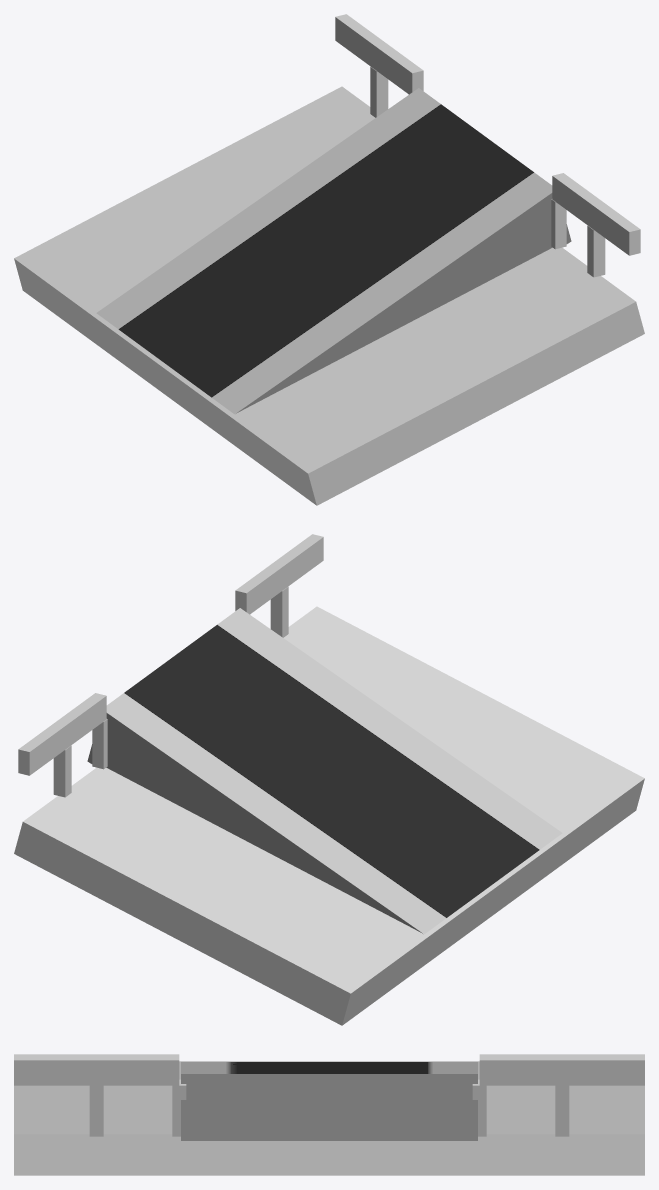
3 views of the same model, one above another, from view 1: azimuth 30°, elevation 25°; view 2: azimuth 150°, elevation 25°; view 3: azimuth 270°, elevation 25° (orthographic). The views are drawn at different scales.
Visible parts, largest first — view 1: Box005, Box006, BottomBox174, BottomBox173, BottomBox177, BottomBox175, BottomBox178; view 2: Box005, Box006, BottomBox173, BottomBox174, BottomBox175, BottomBox177, BottomBox176; view 3: Box005, Box006, BottomBox173, BottomBox174, BottomBox175, BottomBox177, BottomBox176, BottomBox178.
Boxes of the visible parts, x1,y1,x2,y2 form: Box005: [14, 86, 644, 505]; Box006: [96, 88, 571, 414]; BottomBox174: [552, 173, 640, 255]; BottomBox173: [335, 14, 423, 94]; BottomBox177: [587, 225, 605, 277]; BottomBox175: [370, 66, 388, 117]; BottomBox178: [551, 199, 566, 249]; Box005: [14, 606, 644, 1025]; Box006: [87, 608, 562, 934]; BottomBox173: [18, 693, 106, 775]; BottomBox174: [235, 534, 323, 614]; BottomBox175: [53, 745, 71, 797]; BottomBox177: [270, 586, 288, 637]; BottomBox176: [92, 719, 107, 769]; Box005: [14, 1061, 644, 1175]; Box006: [181, 1062, 477, 1140]; BottomBox173: [479, 1054, 644, 1085]; BottomBox174: [14, 1054, 179, 1085]; BottomBox175: [555, 1085, 569, 1136]; BottomBox177: [89, 1085, 103, 1136]; BottomBox176: [472, 1079, 486, 1136]; BottomBox178: [172, 1079, 186, 1136].
Bounding box in the file's own units: 30.14 × 16.67 × 45.
